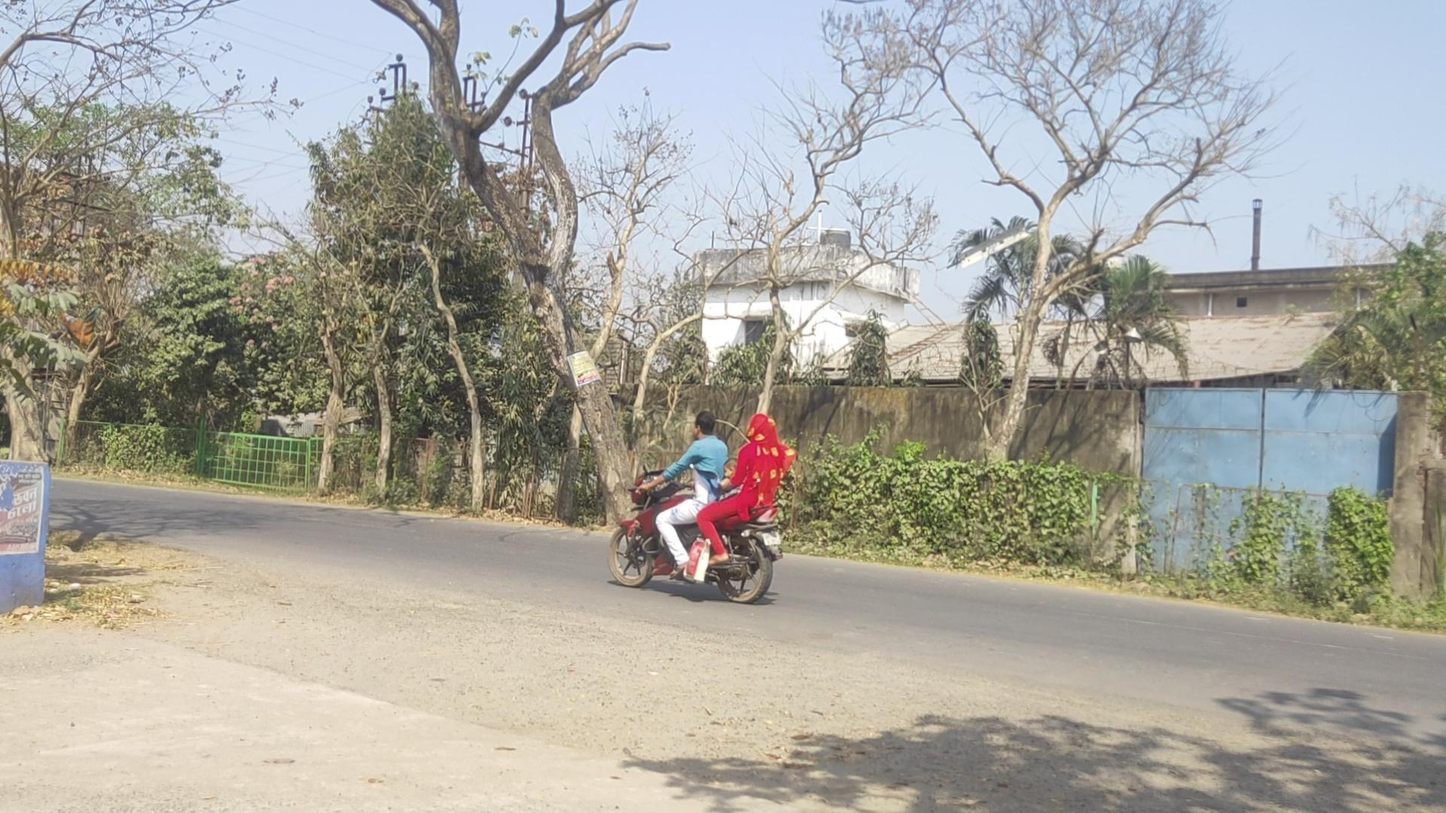bike: (606, 410, 796, 604)
